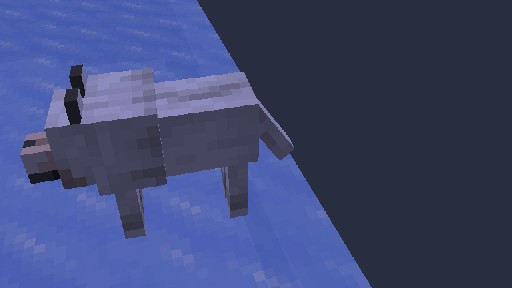wolf: (19, 63, 295, 239)
